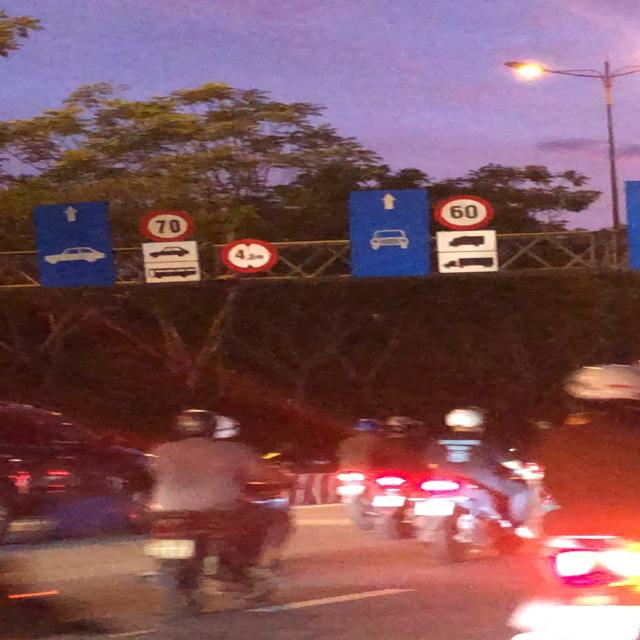Bien bao han che chieu cao: (214, 233, 281, 276)
Bien bao toc do toi da cho phep: (428, 192, 501, 235), (135, 209, 197, 243)
